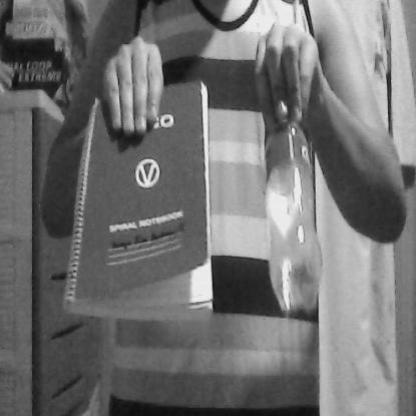Plastic Bottle: (254, 81, 328, 324)
